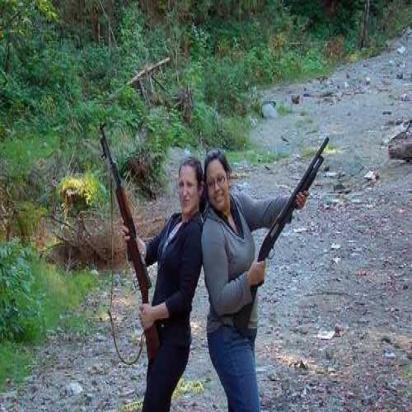Gun: (230, 132, 332, 339), (98, 116, 163, 369)
